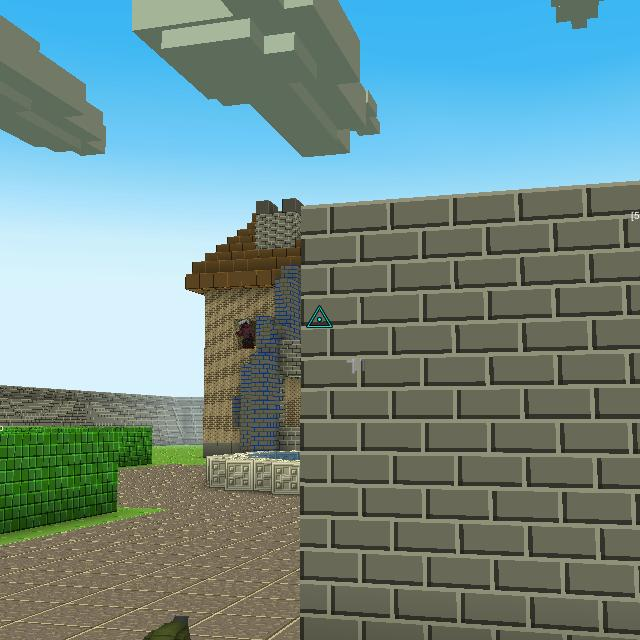enemy: (236, 317, 256, 348)
